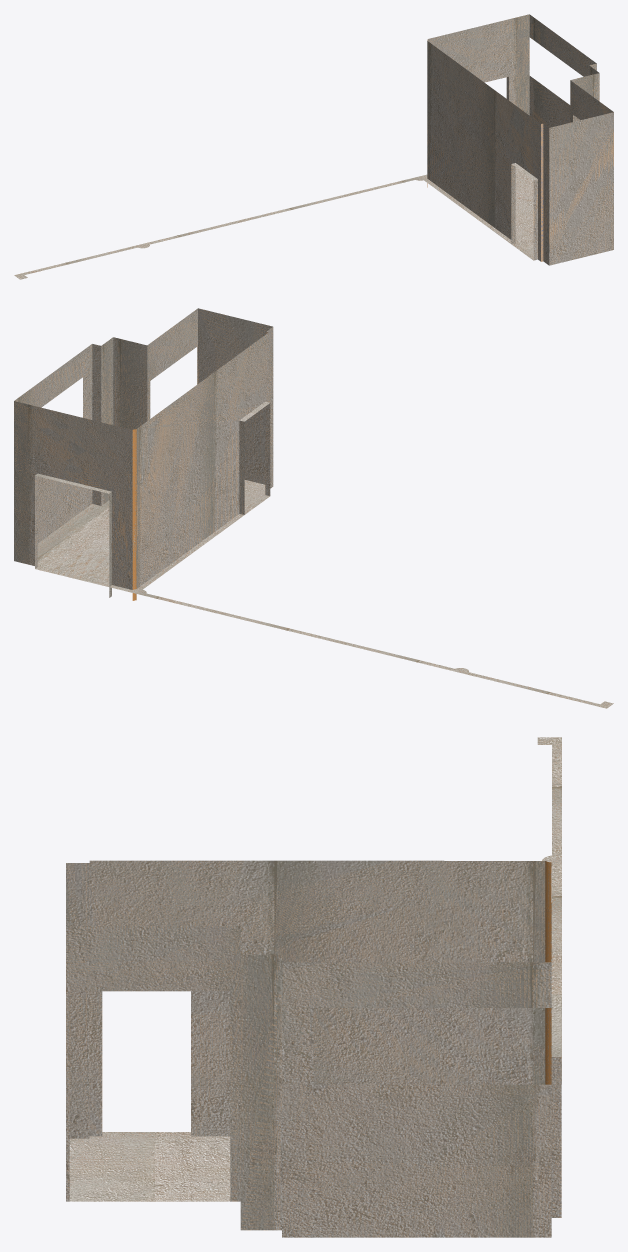
File: COM016.obj
3 views of the same model, one above another, from view 1: azimuth 30°, elevation 25°; view 2: azimuth 150°, elevation 25°; view 3: azimuth 270°, elevation 25° (orthographic). The views are drawn at different scales.
Visible parts, largest first — view 1: Mesh1 COM0016 Model; view 2: Mesh1 COM0016 Model; view 3: Mesh1 COM0016 Model.
Part boxes in pixels (left/top/right/bottom): Mesh1 COM0016 Model: left=14, top=14, right=613, bottom=279; Mesh1 COM0016 Model: left=14, top=308, right=613, bottom=708; Mesh1 COM0016 Model: left=66, top=737, right=561, bottom=1237.
Size of the model in its own units: 14.02 by 3.85 by 5.87.
Materials: 5 (2 with a texture image).
